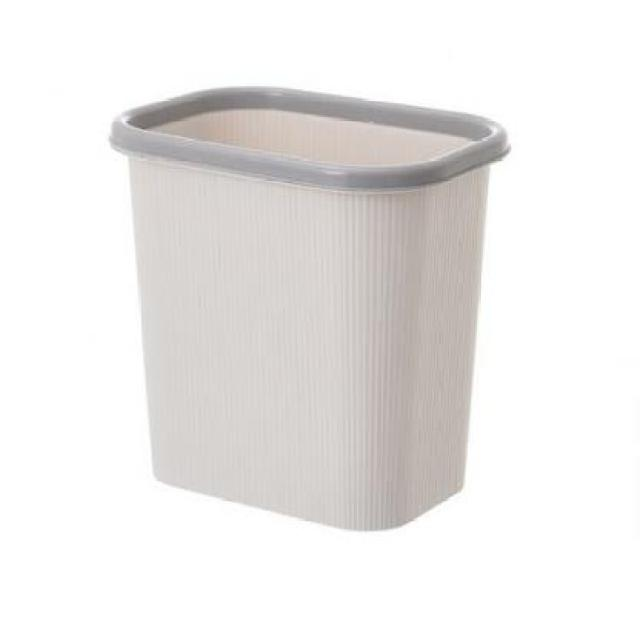dustbin: (104, 80, 518, 538)
